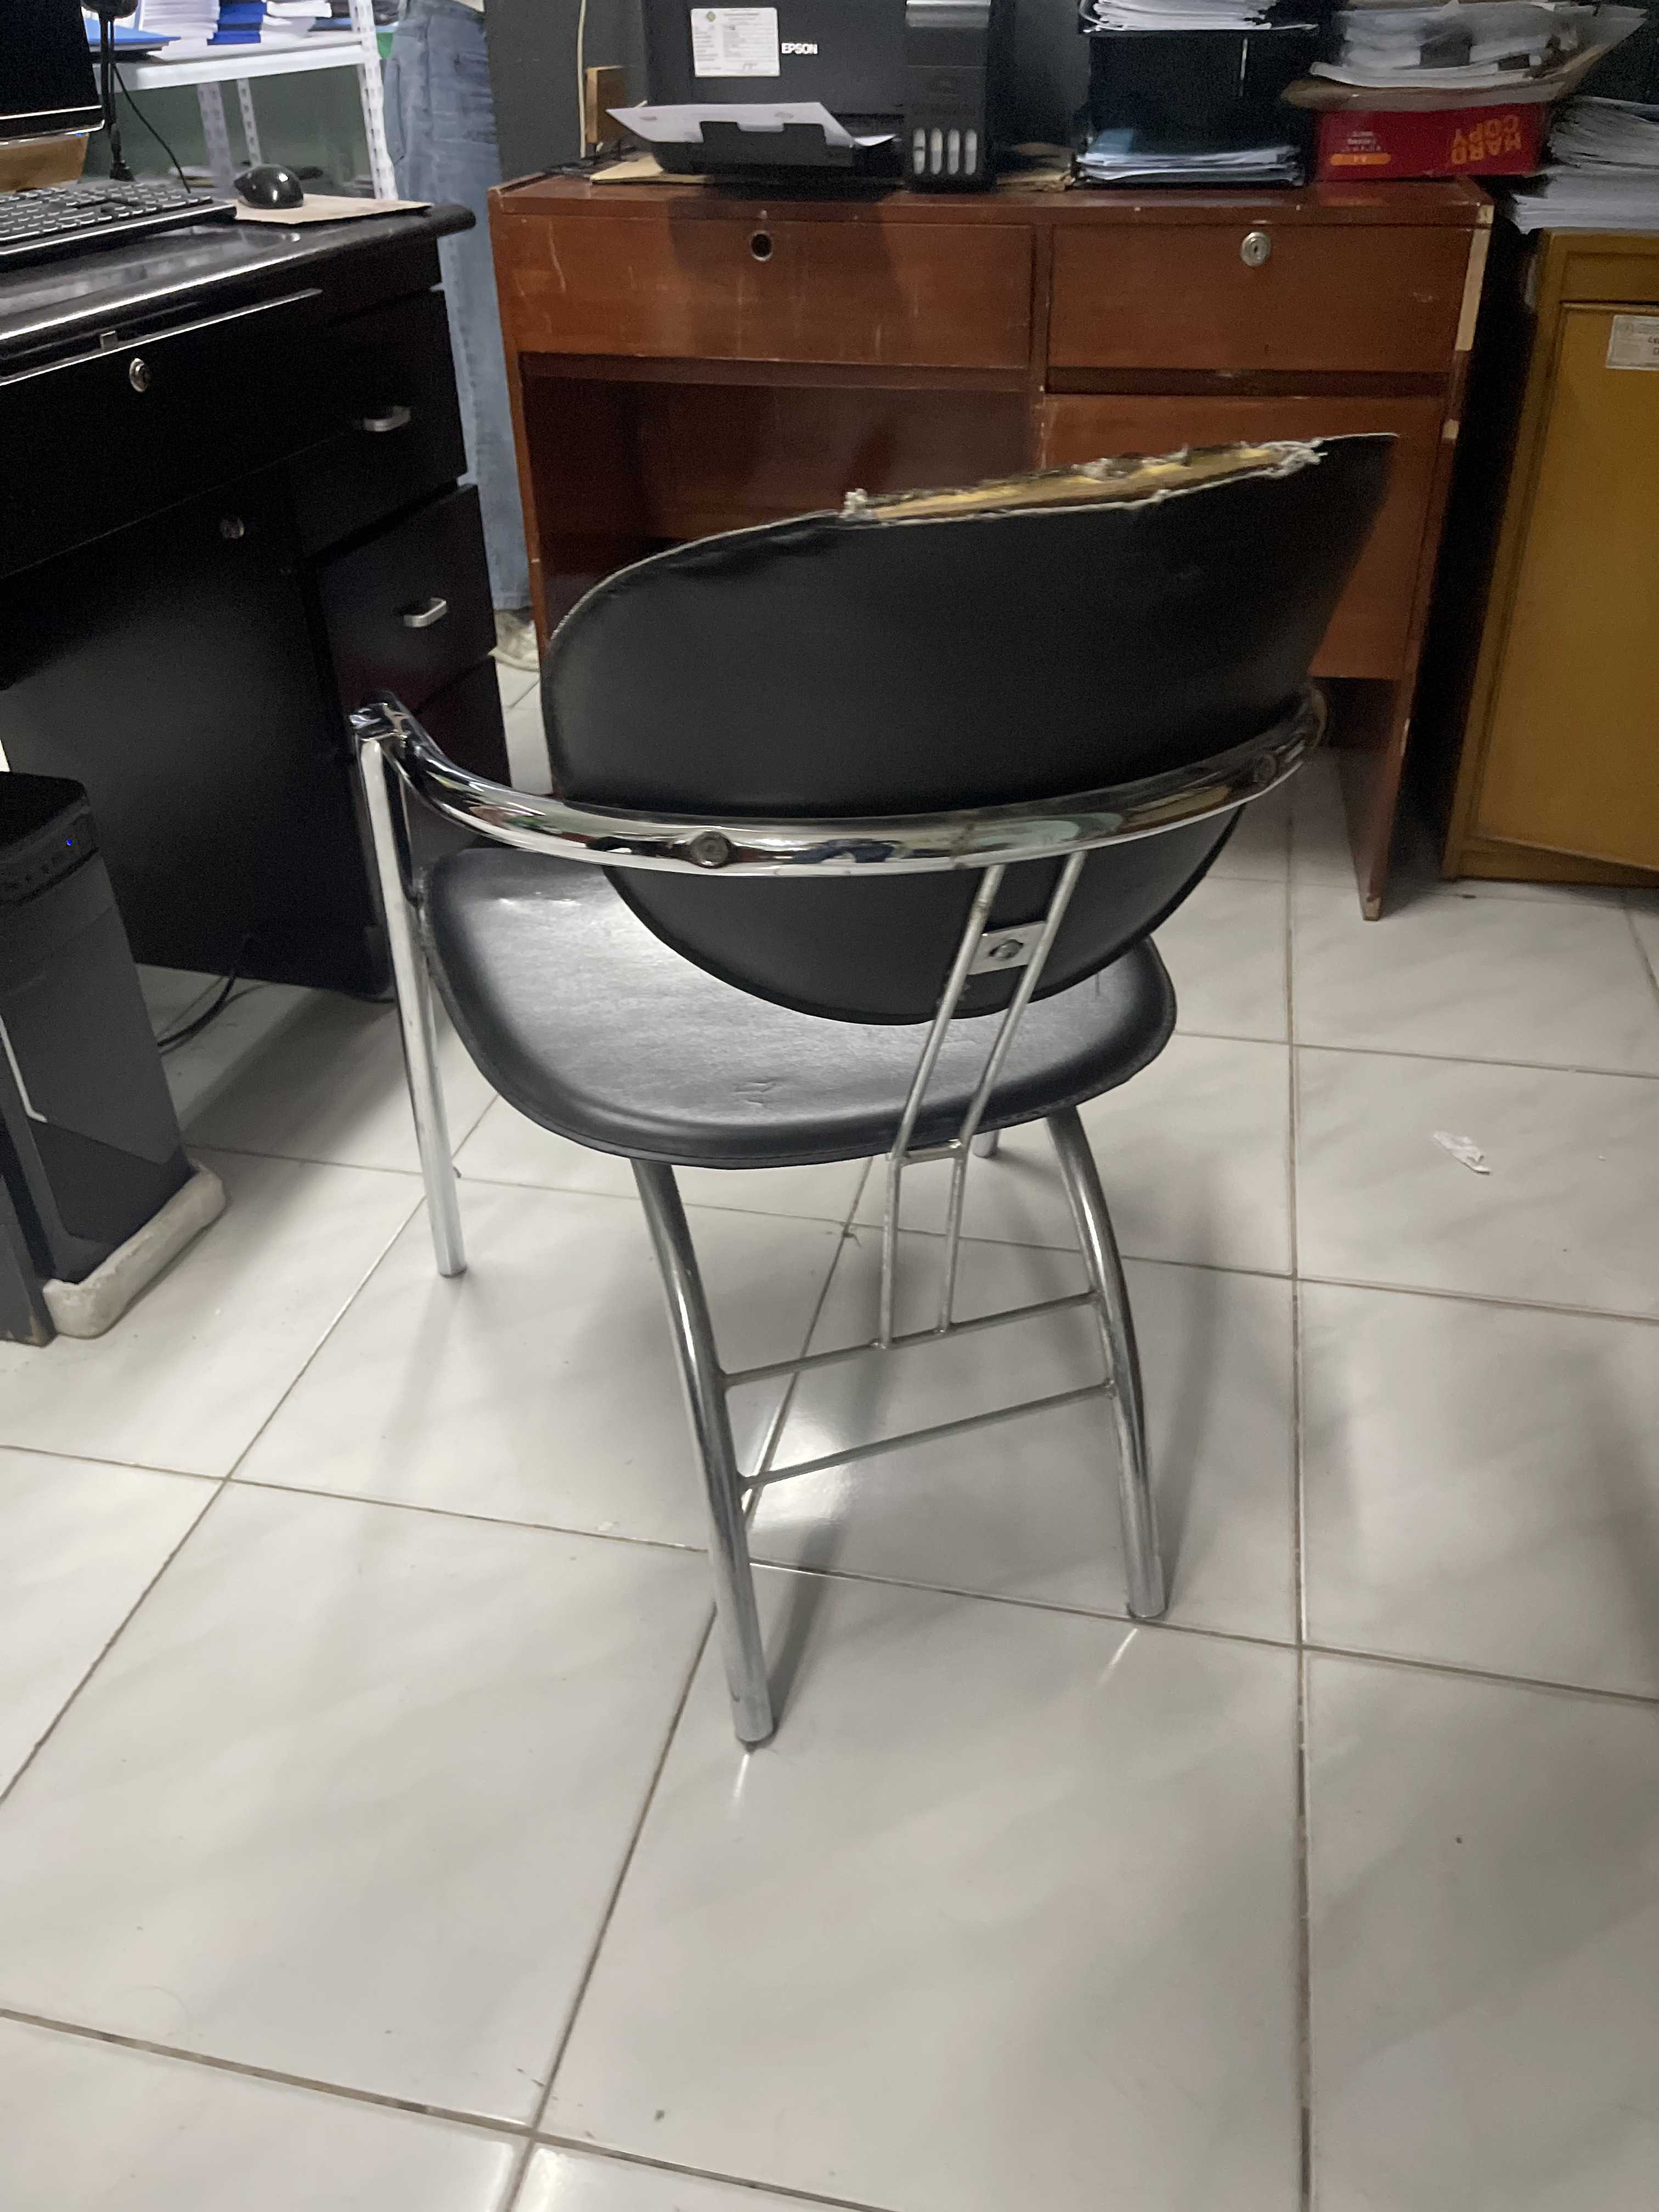chair1: (331, 428, 1401, 1763)
